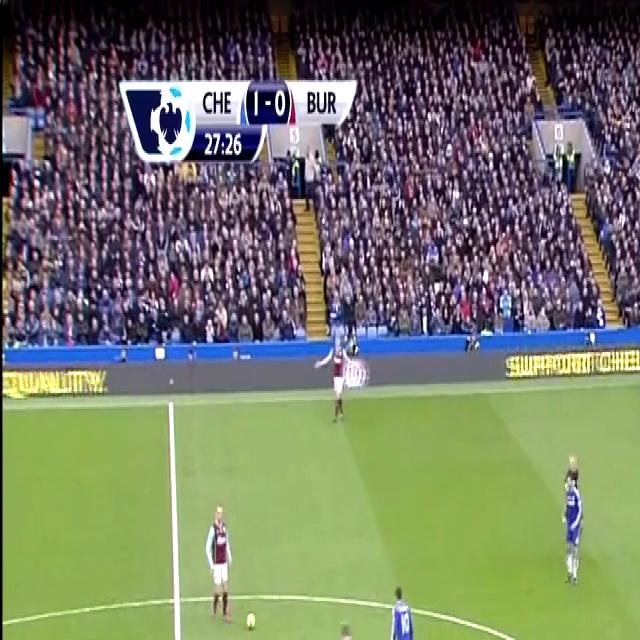ball: (244, 610, 264, 640)
soccer-player: (200, 496, 234, 629), (553, 458, 586, 592), (382, 574, 420, 640), (329, 331, 353, 428), (328, 608, 386, 640), (634, 350, 640, 448), (638, 460, 640, 598)
